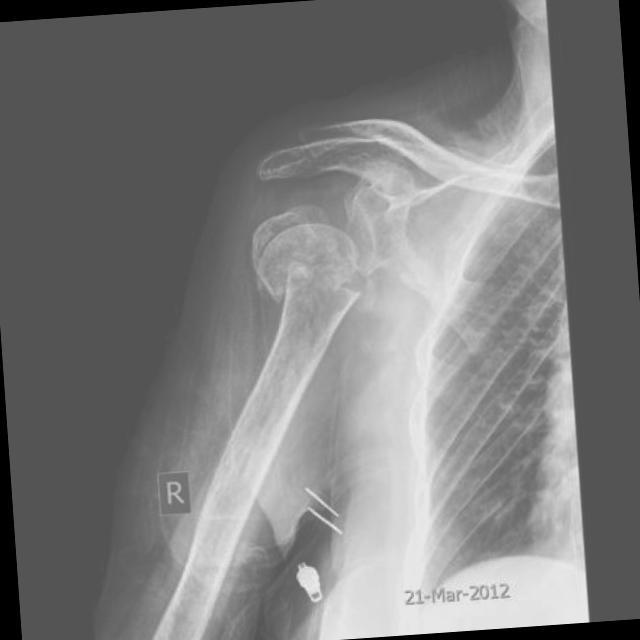Comminuted Fracture: (249, 121, 389, 237)
